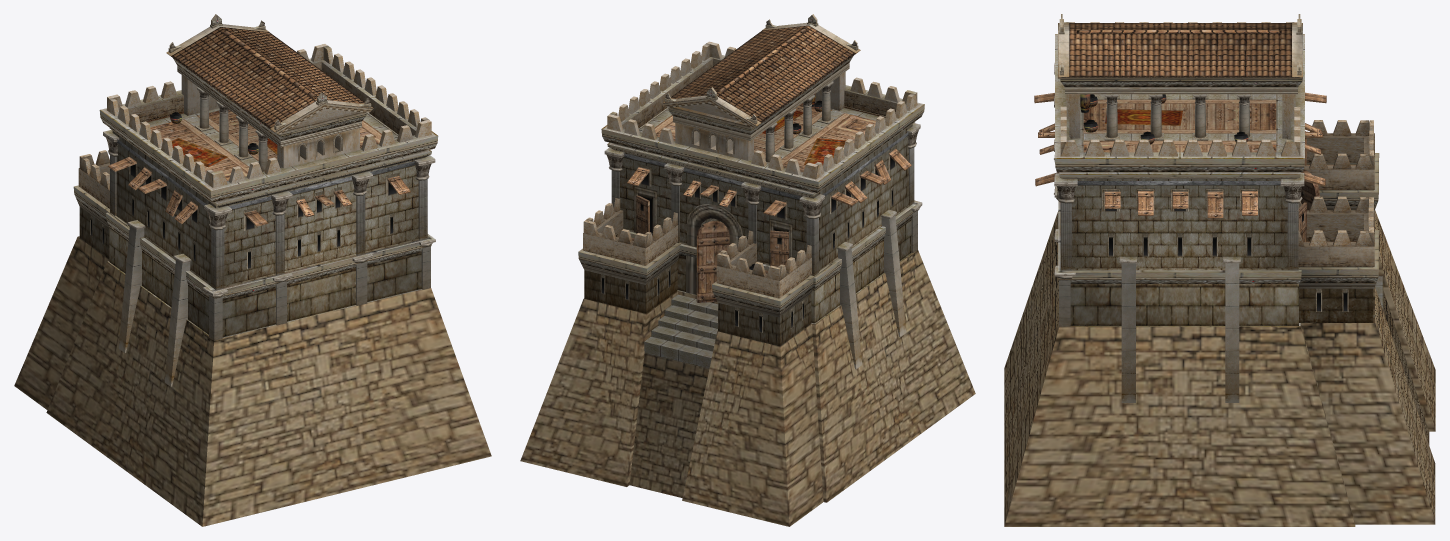
The model's file is sele_fortress.glb.
3 renders of one model, left to right at view 1: azimuth 30°, elevation 25°; view 2: azimuth 150°, elevation 25°; view 3: azimuth 270°, elevation 25°, orthographic. The views are drawn at different scales.
Parts seen in each view (by area): view 1: sele_fortress_part0; view 2: sele_fortress_part0; view 3: sele_fortress_part0.
Boxes of the visible parts, bbox=[...] form: sele_fortress_part0: bbox=[14, 14, 491, 526]; sele_fortress_part0: bbox=[520, 14, 975, 526]; sele_fortress_part0: bbox=[1004, 14, 1435, 526].
Size of the model in its own units: 5.23 by 6.58 by 6.
Materials: 2 (2 with a texture image).
